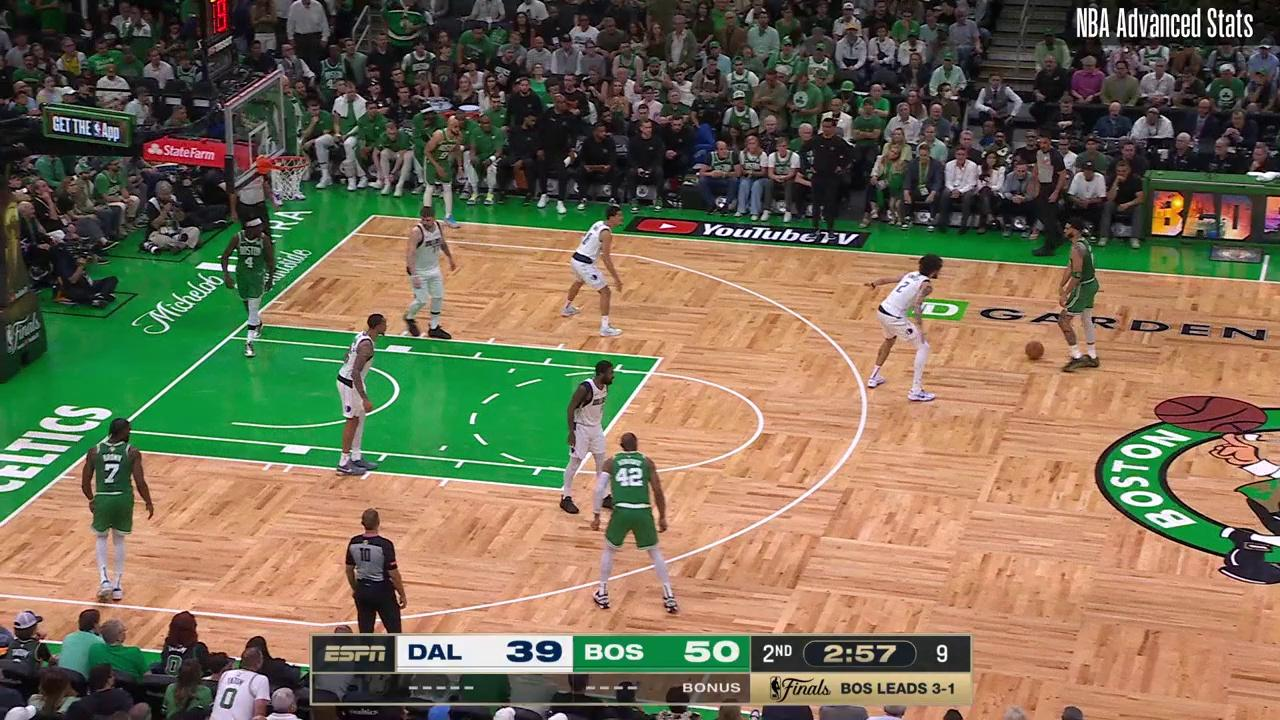3_dx: (348, 230, 359, 238)
b_dx: (369, 211, 378, 220)
free_adx: (655, 353, 665, 364)
free_asx: (558, 482, 568, 495)
mid_sx: (677, 698, 707, 714)
referee: (344, 508, 408, 632), (230, 162, 278, 248)
team: (594, 430, 680, 616), (83, 418, 153, 602), (1056, 217, 1107, 376), (223, 216, 276, 358), (420, 115, 465, 224)
team1: (864, 252, 941, 401), (561, 361, 621, 515), (336, 311, 391, 477), (562, 206, 626, 335), (403, 208, 454, 343)
timer: (819, 639, 903, 670)
